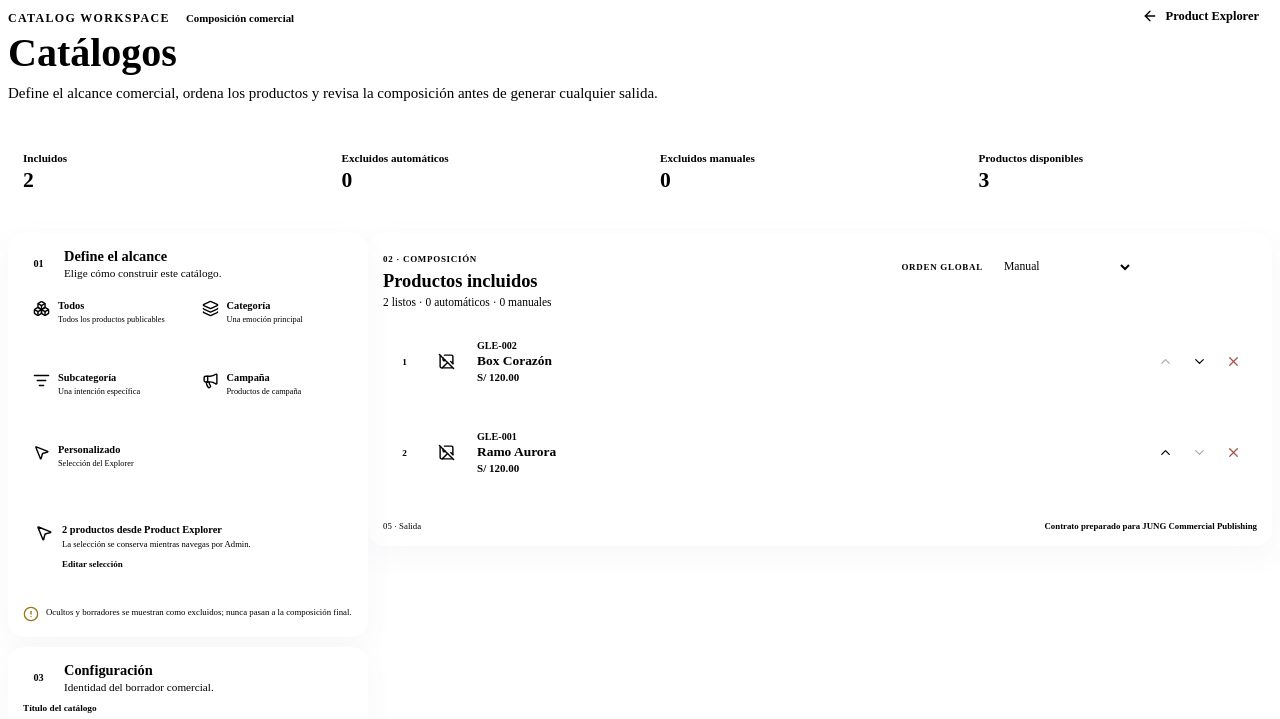
Test case: CatalogWorkspace › excluye y restaura localmente sin modificar ProductSelection
Check: the text "Ramo Aurora" is shown, box [477,444,556,459]
Click the button named "Excluir Ramo Aurora del catálogo" at coordinates (1233, 453), box [1218,438,1248,468]
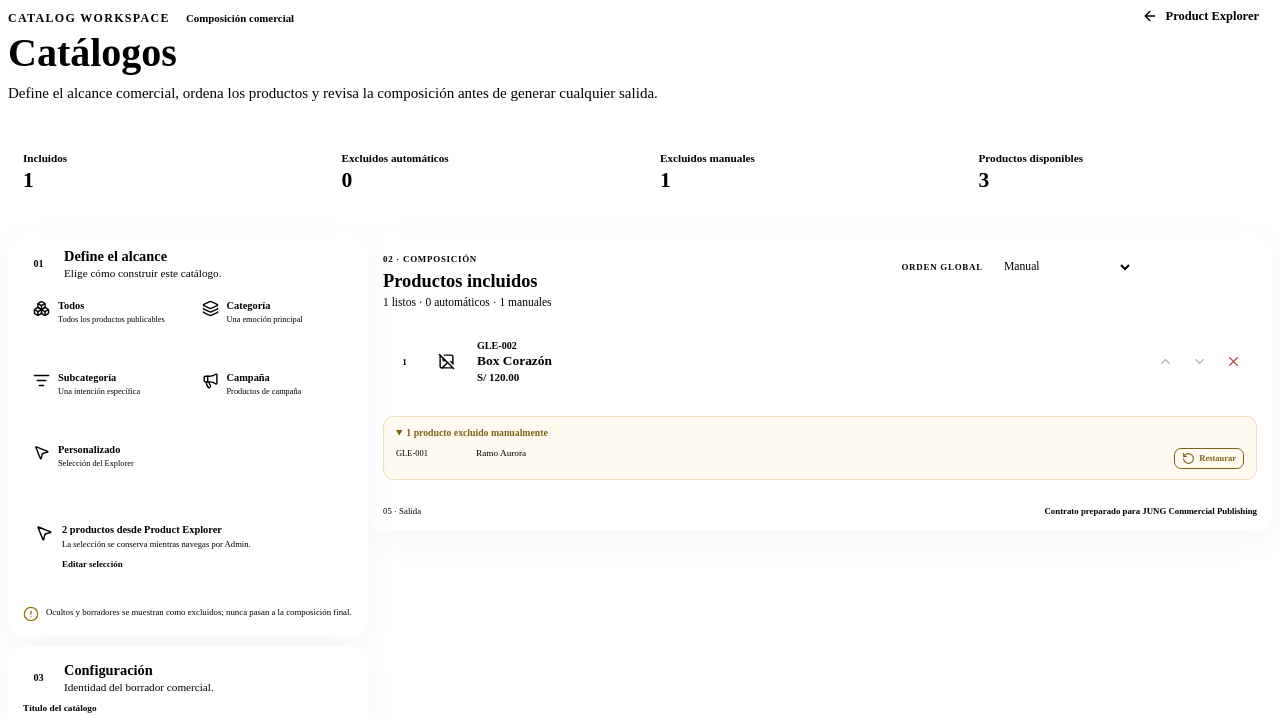
Check: the heading "1 producto excluido manualmente" is shown, box [406,427,548,438]
Click the button "Restaurar" at coordinates (1209, 458), box [1174,448,1244,469]
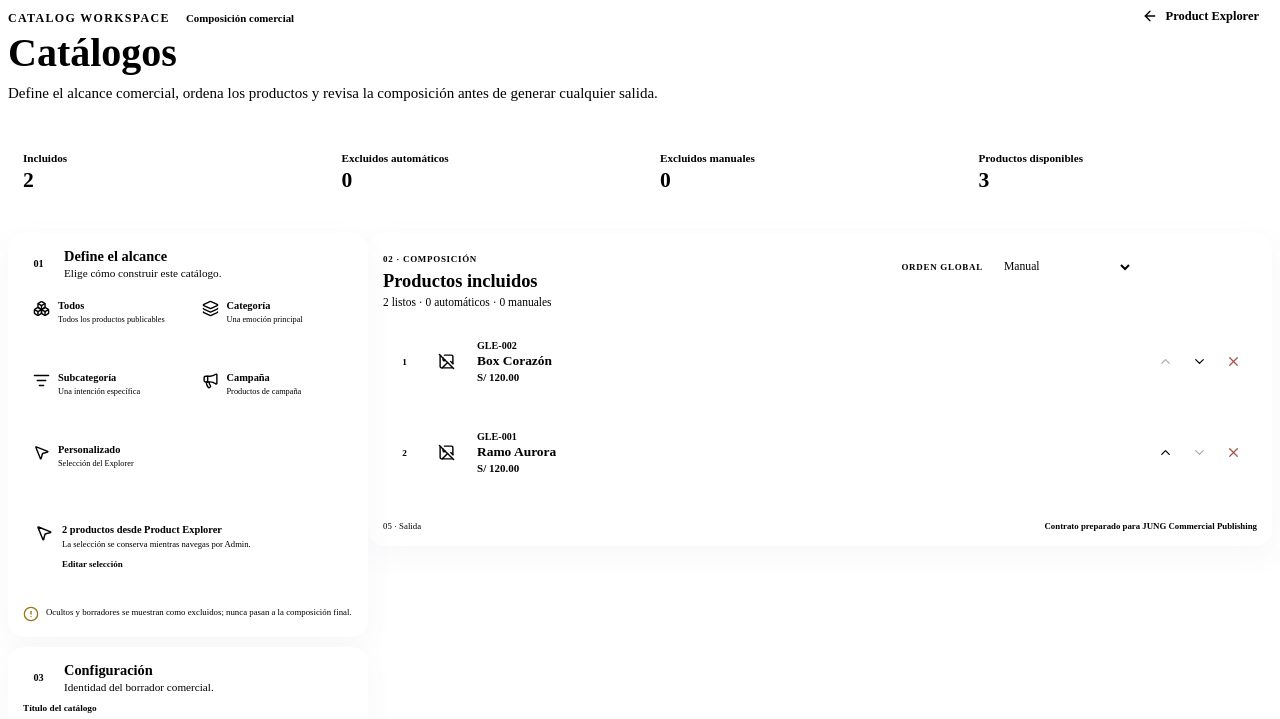
Check: the button named "Subir Ramo Aurora" is shown, box [1150,438,1180,468]
